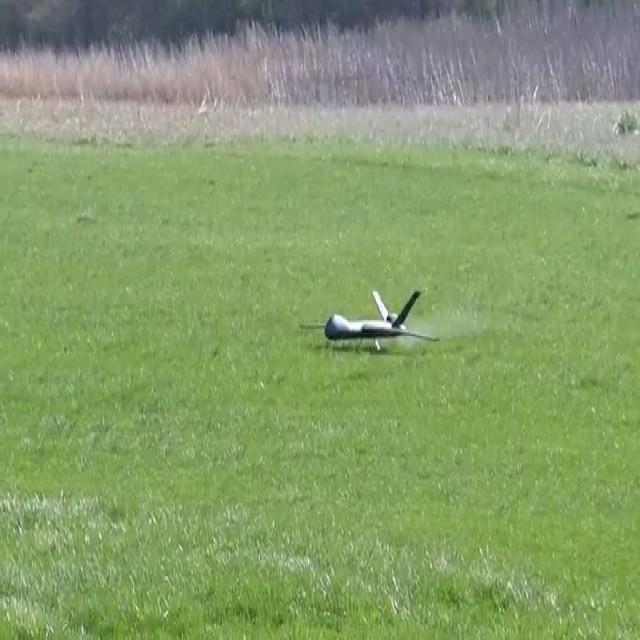iha: (300, 292, 432, 348)
